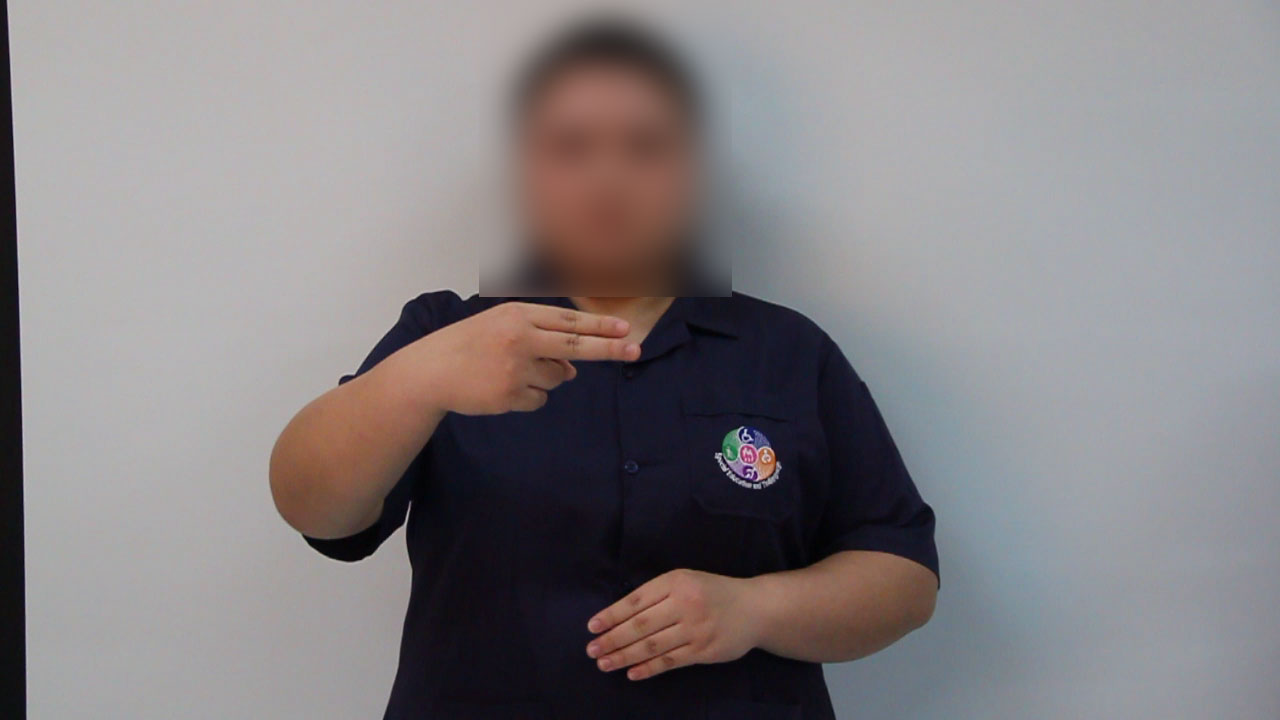hor: (391, 296, 653, 434)
